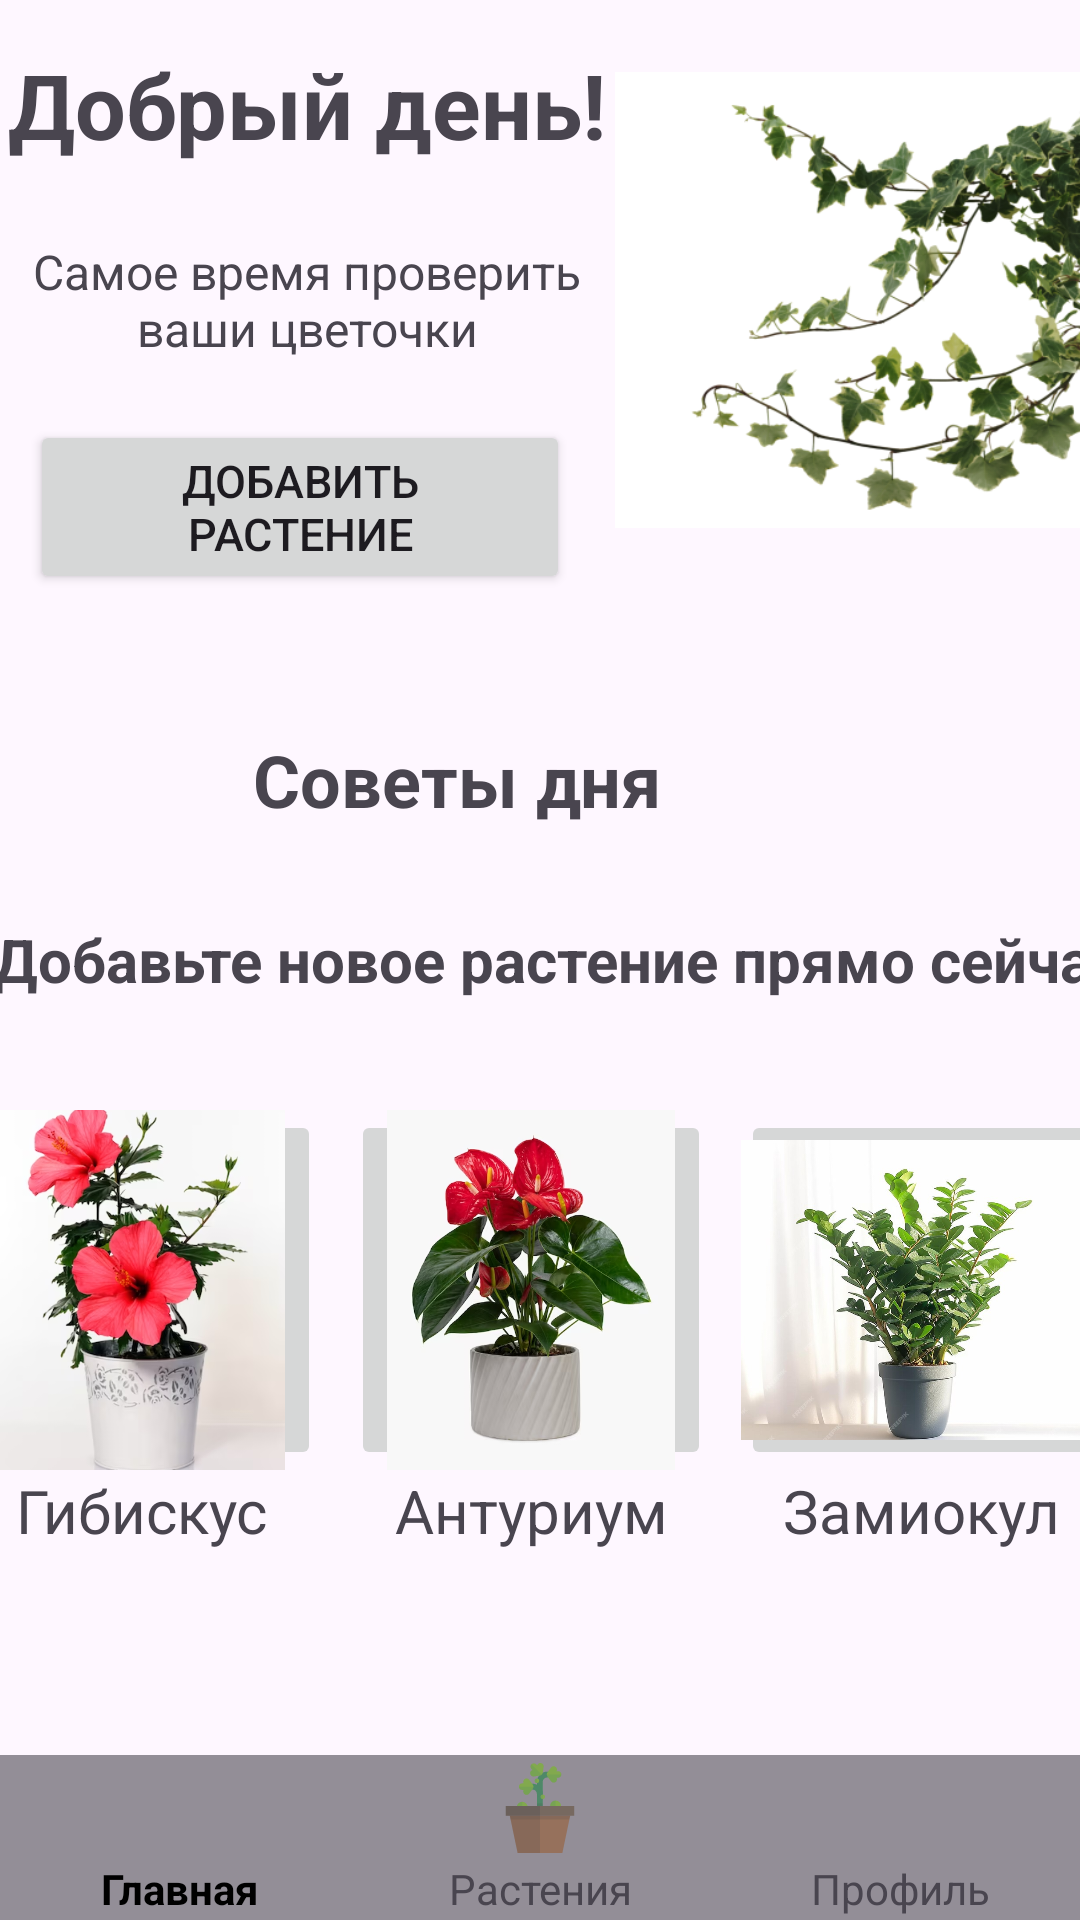

Point at icon controls on the screen. Image size 1080 x 1920, points as (x,y).
flower pot: (540,1808)
